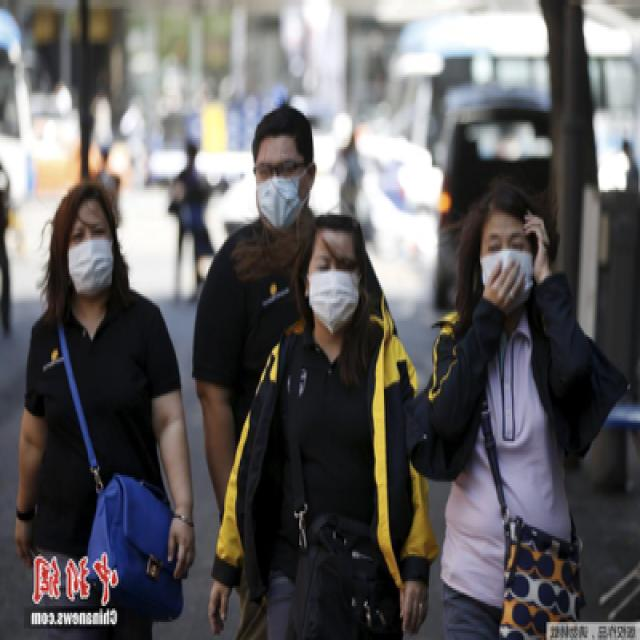mask: (480, 224, 538, 308), (310, 246, 362, 332), (65, 212, 118, 292), (258, 150, 308, 228)
